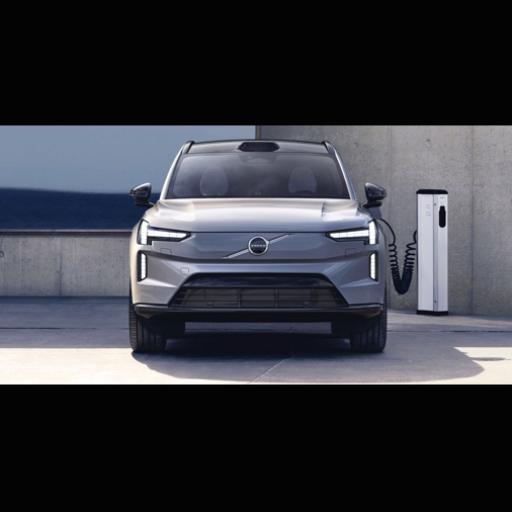suv: (129, 139, 387, 351)
